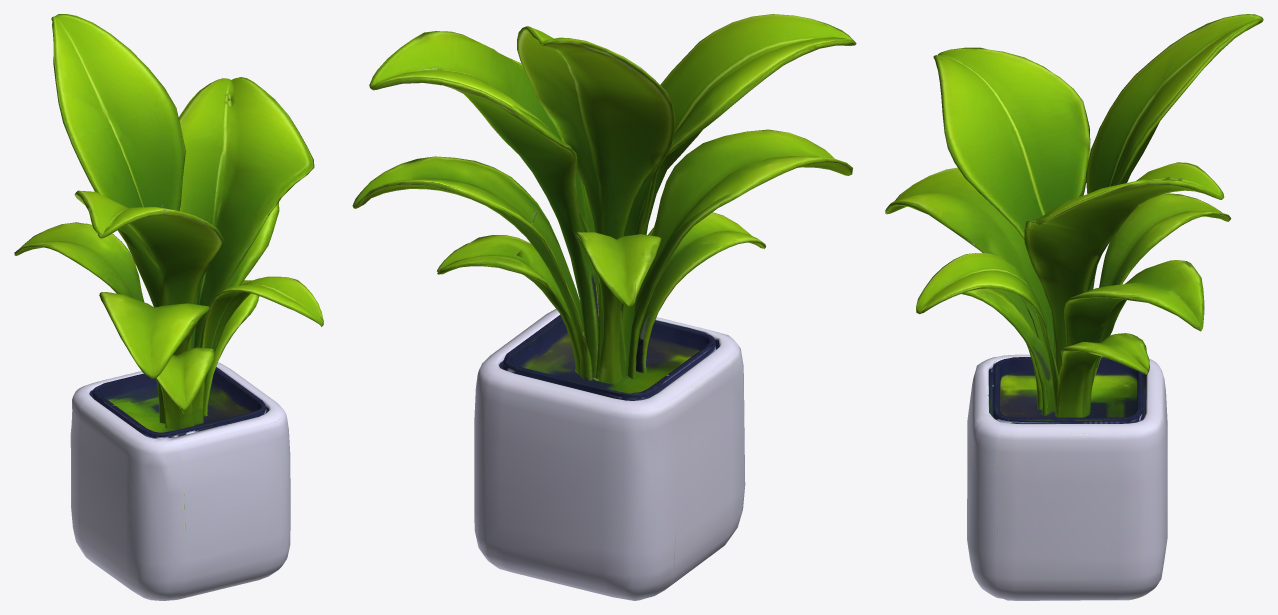
Rendered from plant.glb.
3 views of the same model, side by side, from view 1: azimuth 30°, elevation 25°; view 2: azimuth 150°, elevation 25°; view 3: azimuth 270°, elevation 25° (orthographic). The views are drawn at different scales.
Size of the model in its own units: 0.5806 by 0.9517 by 0.6089.
1 material, 1 textured.
